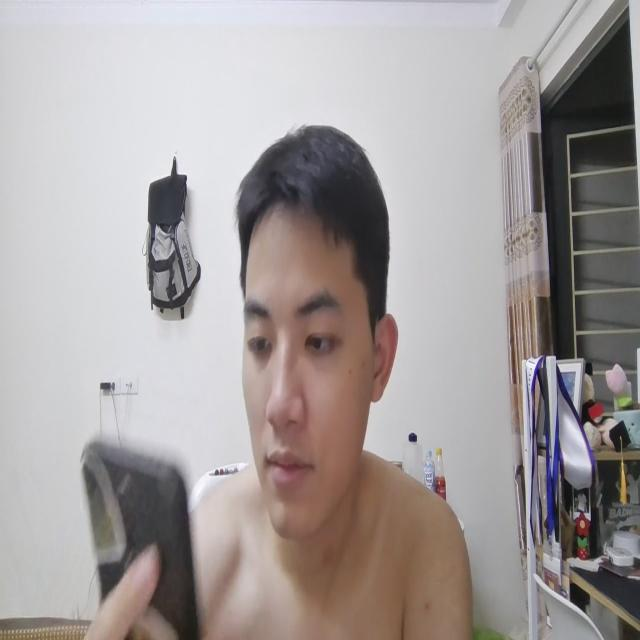phone: (76, 422, 203, 640)
student: (170, 122, 470, 640)
